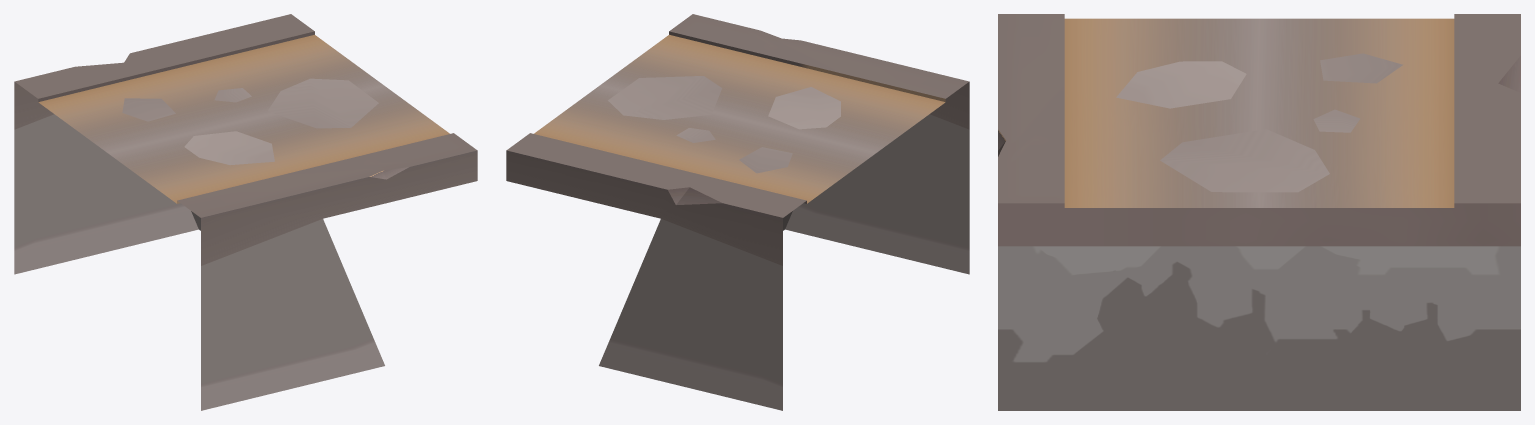
The model's file is SM_Building_Bridge_01.fbx.
3 views of the same model, side by side, from view 1: azimuth 30°, elevation 25°; view 2: azimuth 150°, elevation 25°; view 3: azimuth 270°, elevation 25° (orthographic). The views are drawn at different scales.
Visible parts, largest first — view 1: SM_Building_Bridge_01; view 2: SM_Building_Bridge_01; view 3: SM_Building_Bridge_01.
Boxes of the visible parts, x1,y1,x2,y2 form: SM_Building_Bridge_01: (14,14,477,410); SM_Building_Bridge_01: (506,14,969,410); SM_Building_Bridge_01: (998,14,1520,410).
Size of the model in its own units: 3 by 2 by 3.5.
